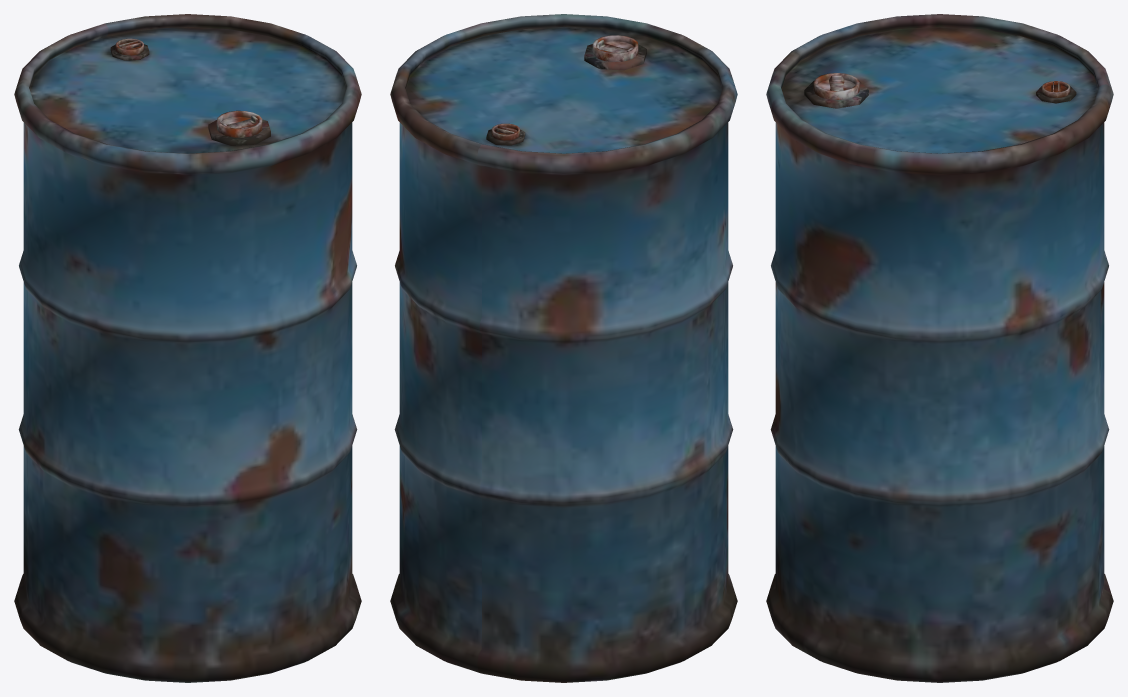
Rendered from oil-drum--3.gltf.
3 views of the same model, side by side, from view 1: azimuth 30°, elevation 25°; view 2: azimuth 150°, elevation 25°; view 3: azimuth 270°, elevation 25° (orthographic).
Parts seen in each view (by area): view 1: barrel3, cap.barrel3, cap.base3; view 2: barrel3, cap.barrel3, cap.base3; view 3: barrel3, cap.barrel3, cap.base3.
Boxes of the visible parts, x1,y1,x2,y2 form: barrel3: (14, 14, 361, 682); cap.barrel3: (115, 38, 262, 137); cap.base3: (110, 44, 270, 145); barrel3: (390, 14, 737, 682); cap.barrel3: (491, 35, 638, 140); cap.base3: (486, 44, 646, 145); barrel3: (766, 14, 1113, 682); cap.barrel3: (813, 73, 1070, 99); cap.base3: (804, 80, 1076, 108).
Bounding box in the file's own units: 0.5338 × 0.9 × 0.5338.
3 materials, 3 textured.
